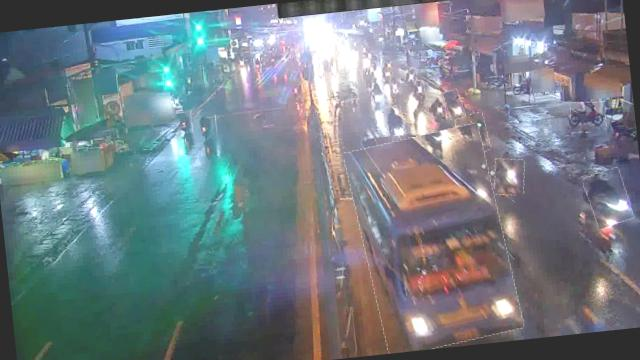Bike: (584, 168, 633, 229), (491, 158, 526, 198), (568, 100, 608, 134), (470, 112, 490, 152), (192, 114, 218, 142), (444, 90, 466, 122), (384, 105, 406, 137), (438, 117, 458, 150), (332, 80, 358, 103), (387, 77, 403, 106), (368, 82, 385, 109), (430, 98, 448, 122), (485, 75, 511, 91), (176, 112, 193, 136), (412, 80, 427, 106), (404, 68, 418, 86)
Bus: (346, 124, 520, 355)
